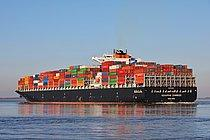Ship: (15, 46, 201, 112)
